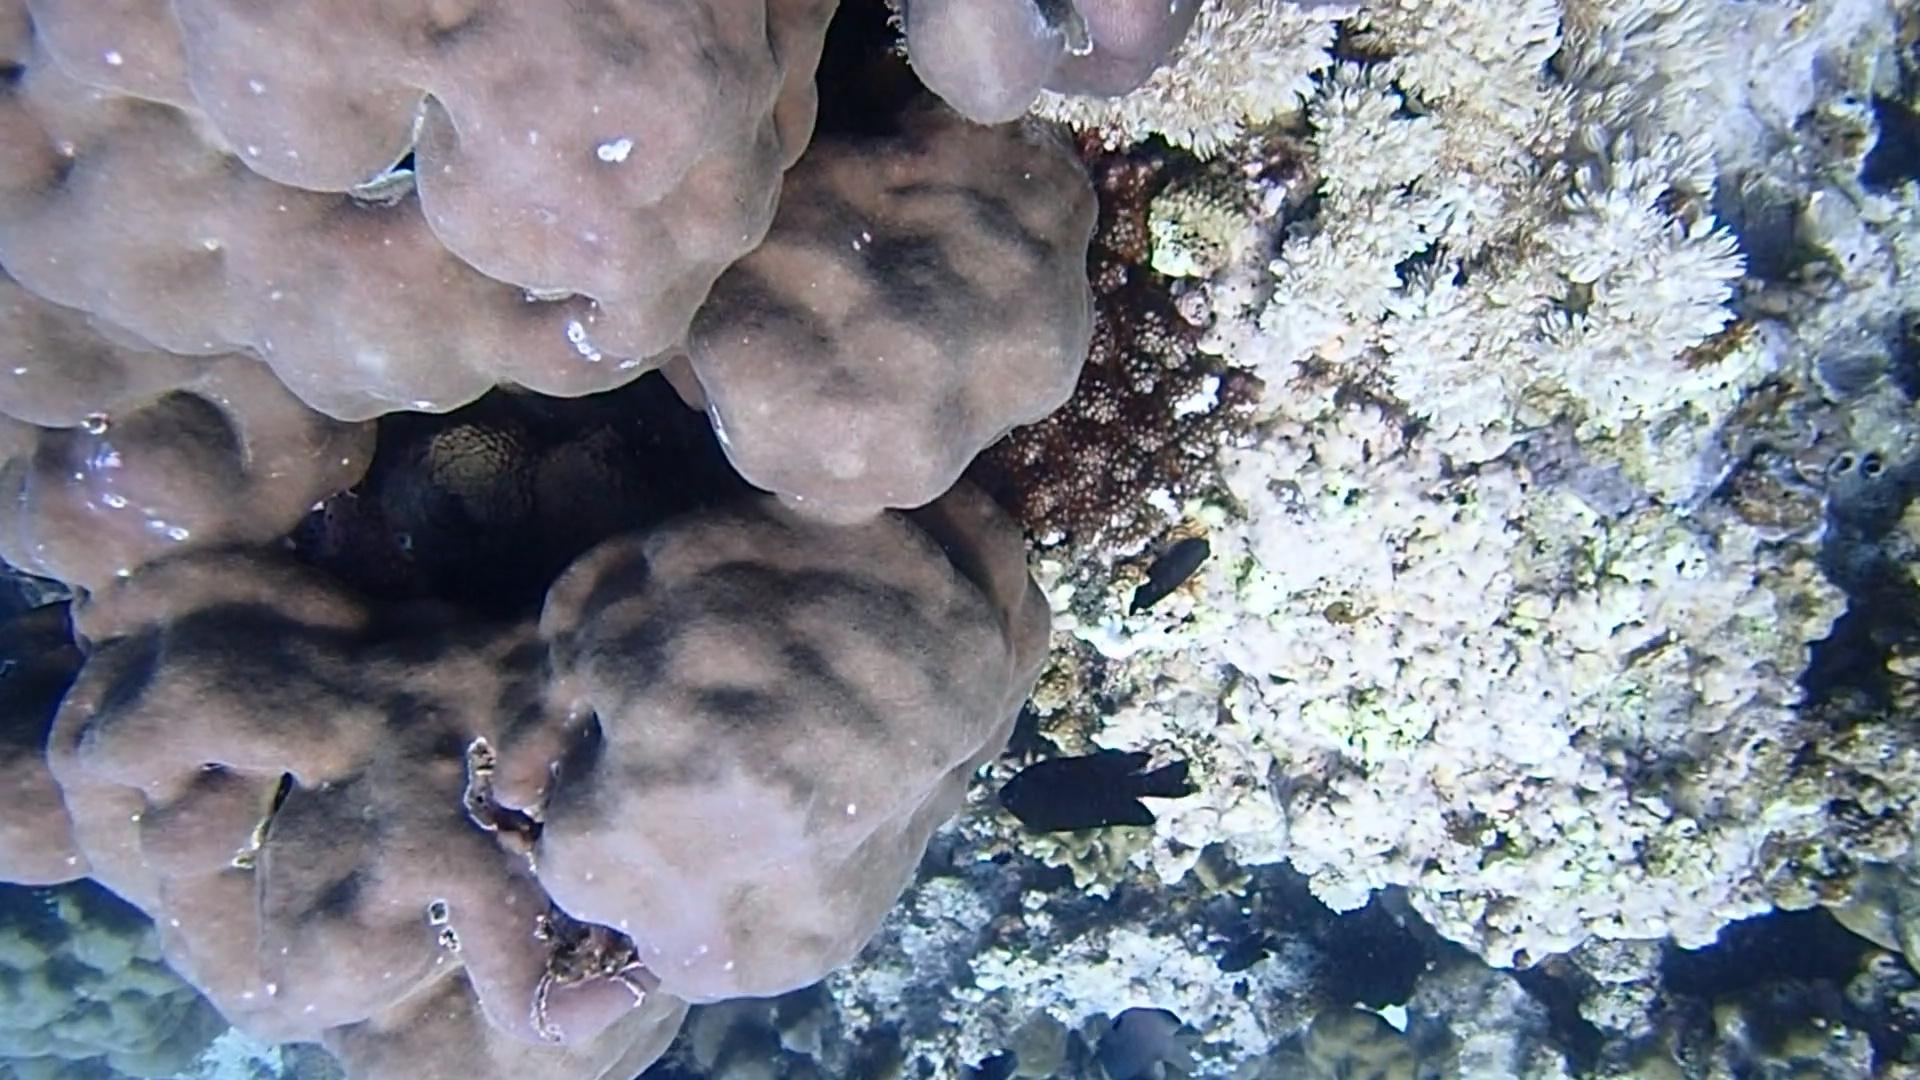Dark Fish: (992, 736, 1207, 843), (1118, 530, 1221, 624), (1213, 924, 1288, 980)
Light Fish - Dark Fin: (1079, 1001, 1211, 1080)
